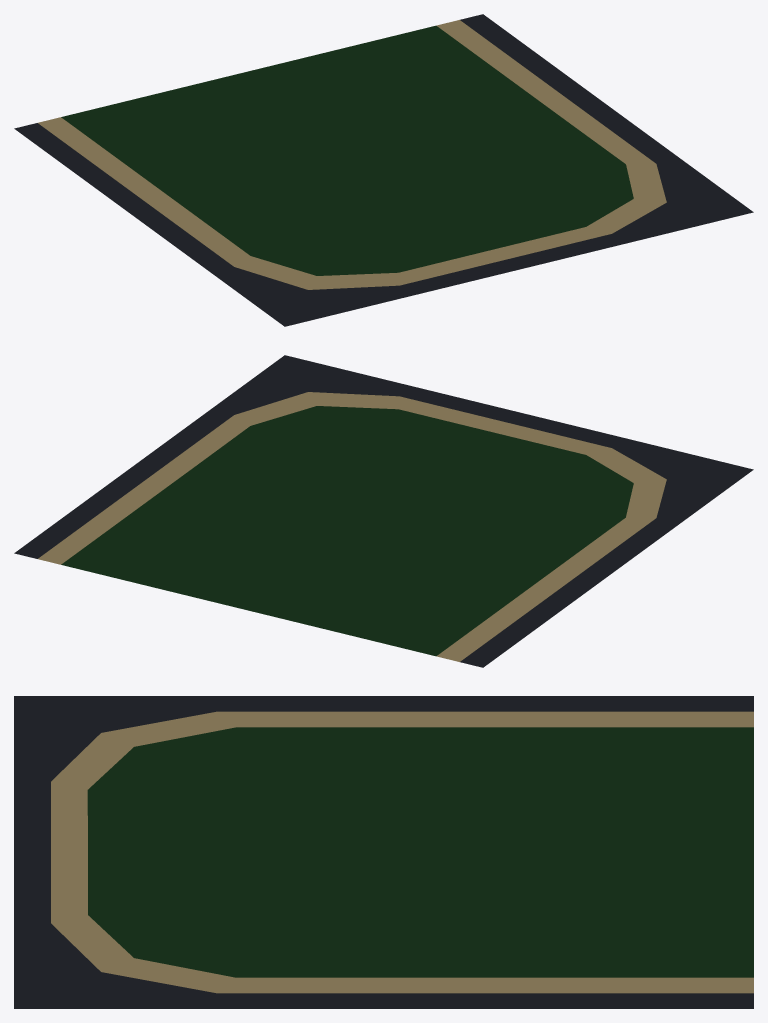
The model's file is terrain_plains_penninsula1.fbx.
The picture shows the model from 3 angles, top to bottom: view 1: azimuth 30°, elevation 25°; view 2: azimuth 150°, elevation 25°; view 3: azimuth 270°, elevation 25°; orthographic projection. The views are drawn at different scales.
Parts seen in each view (by area): view 1: terrain_plains_penninsula1; view 2: terrain_plains_penninsula1; view 3: terrain_plains_penninsula1.
Part boxes in pixels (x1,y1,x2,y2): terrain_plains_penninsula1: (14, 14, 753, 326); terrain_plains_penninsula1: (14, 355, 753, 667); terrain_plains_penninsula1: (14, 696, 753, 1008).
Bounding box in the file's own units: 10 × 0 × 10.
